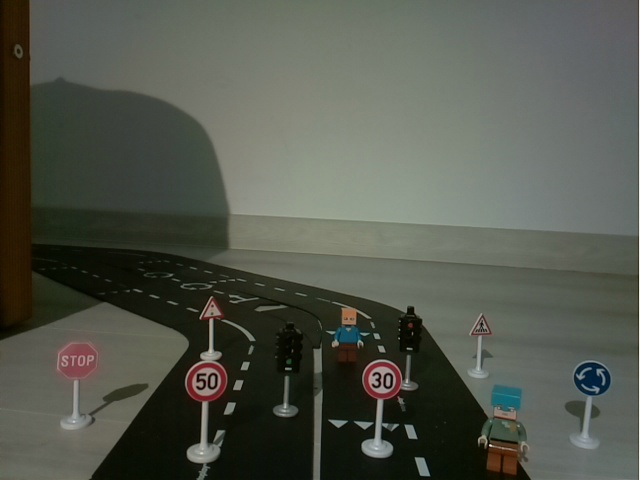green light: (272, 320, 304, 422)
limit 30: (362, 366, 399, 459)
limit 50: (184, 362, 231, 466)
pedestrian sign: (464, 309, 498, 380)
person: (328, 303, 365, 364)
red light: (396, 303, 426, 363)
round: (564, 355, 615, 452)
second person: (474, 384, 536, 478)
stop: (52, 337, 104, 434)
traffic light sign: (195, 294, 227, 362)
